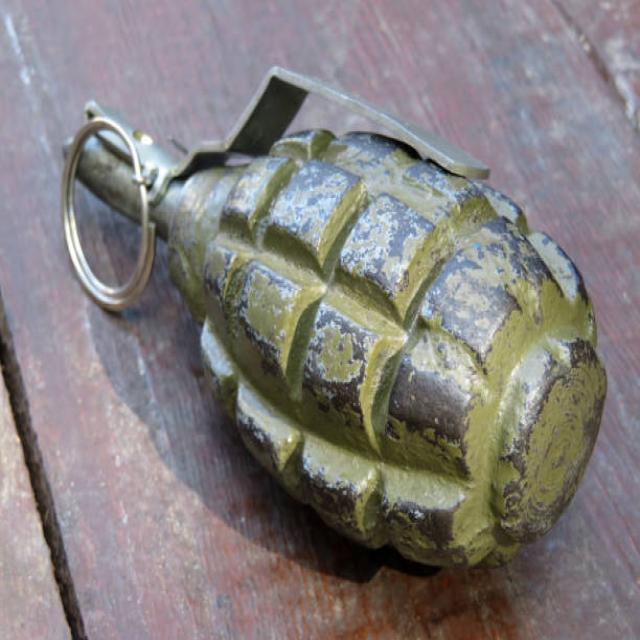grenade: (53, 61, 617, 592)
